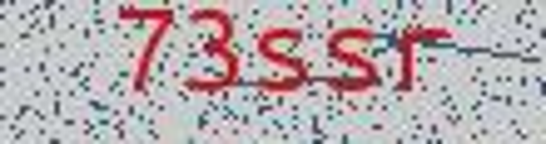3: (181, 4, 244, 109)
7: (102, 2, 179, 124)
r: (389, 8, 462, 113)
s: (320, 4, 382, 112), (255, 10, 311, 107)
